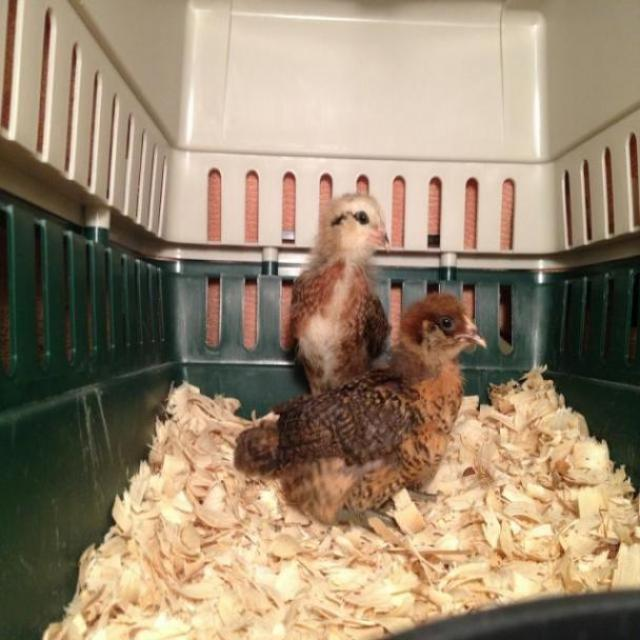Chicken: (283, 205, 395, 401)
